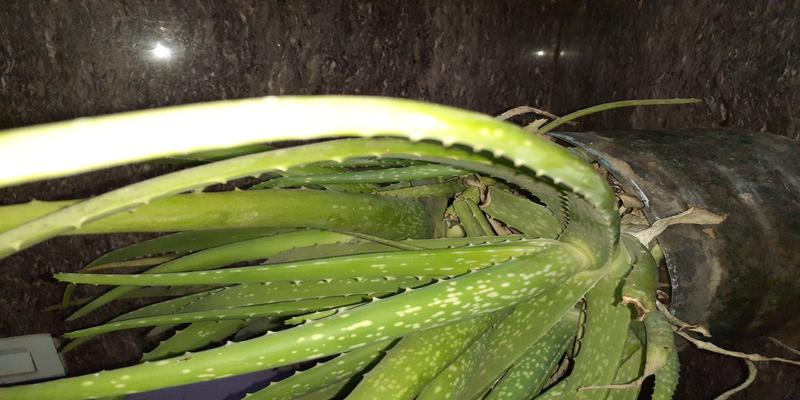Aloevera: (141, 101, 644, 394)
